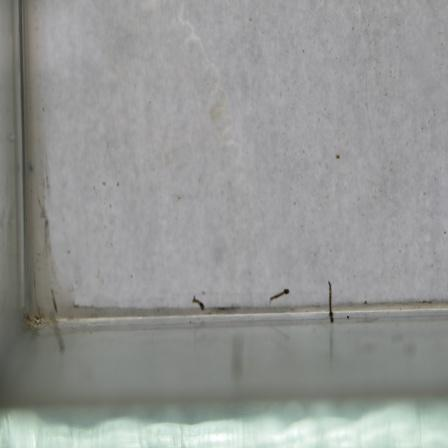Jentik-Nyamuk: (321, 280, 339, 327), (186, 291, 212, 317), (268, 285, 291, 307)
